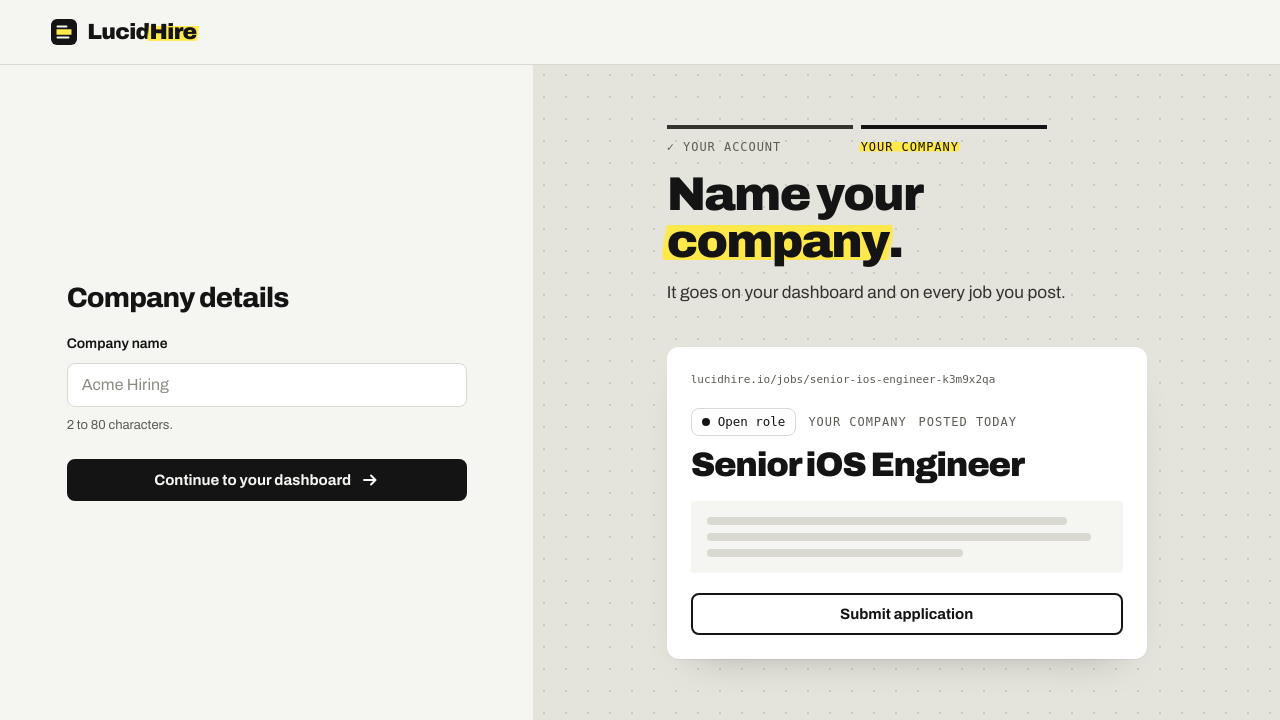
Scenario: signing in for the first time › sends a recruiter without a company from the dashboard to onboarding, then back
Click the button "Continue to your dashboard" at (267, 480), box [67, 459, 467, 501]
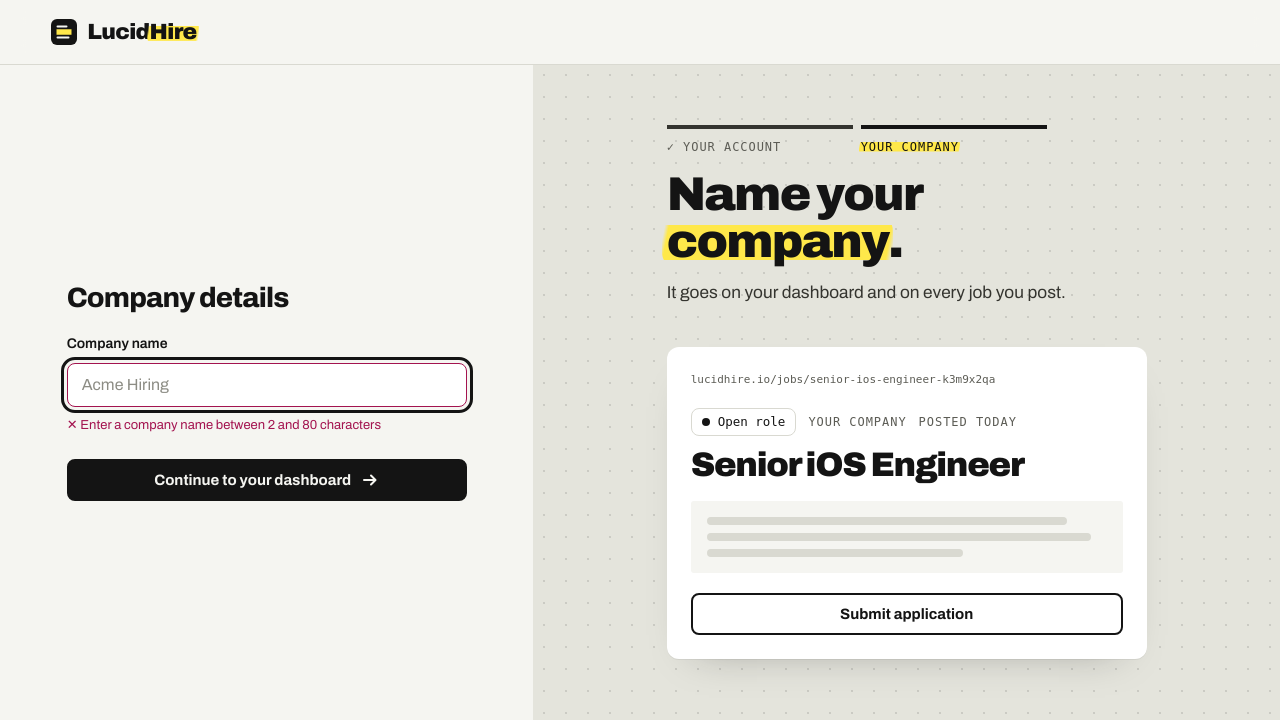
Now the message reads "✕ Enter a company name between 2 and 80 characters", box [67, 418, 381, 432]
Type "  Sprite   Labs " into the field labelled "Company name" at (267, 385), box [67, 363, 467, 407]
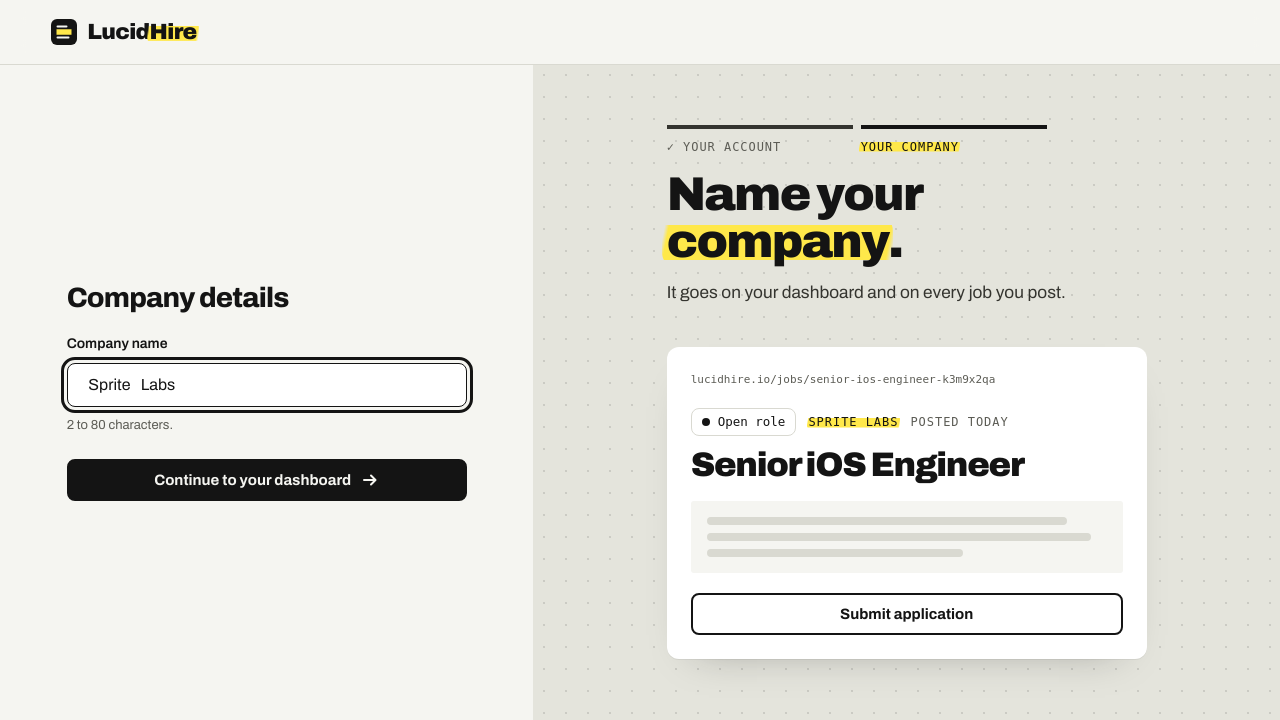
Click the button "Continue to your dashboard" at (267, 480), box [67, 459, 467, 501]
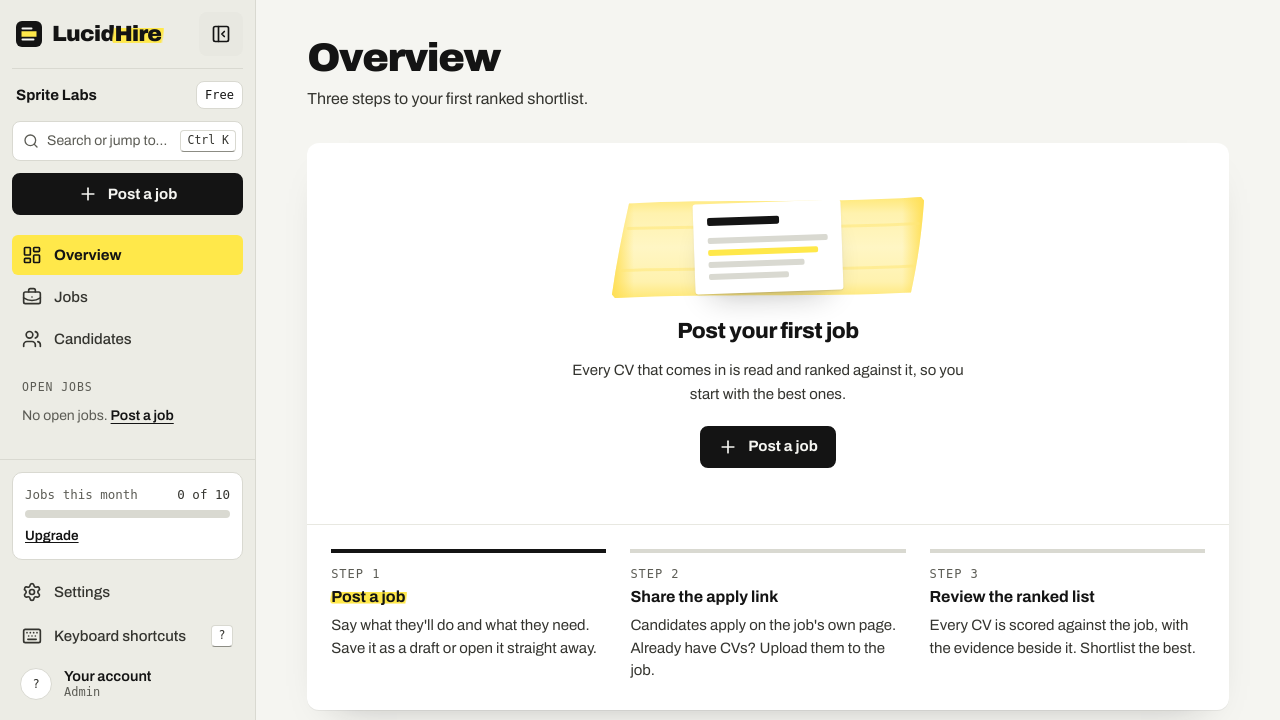
Now the heading "Overview" is shown, box [307, 36, 500, 79]
Now the text "Sprite Labs" is shown, box [16, 86, 97, 104]
